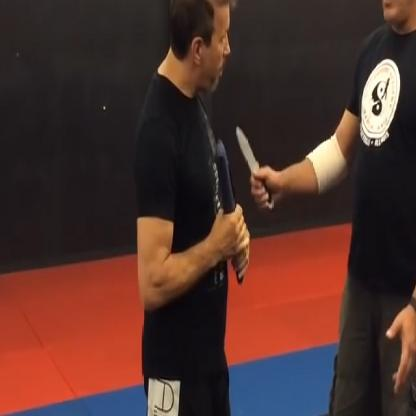knife: (233, 117, 275, 210)
